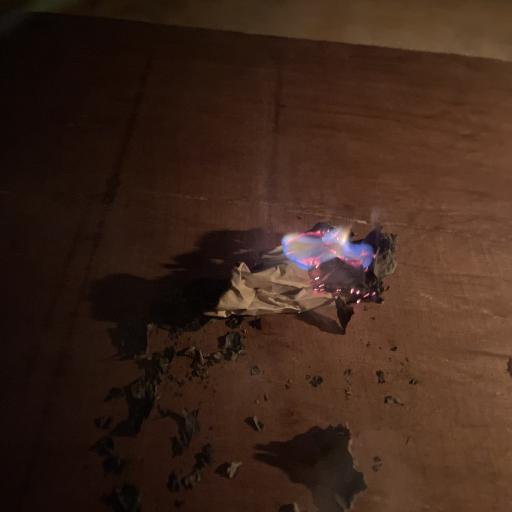fire: (282, 208, 384, 304)
